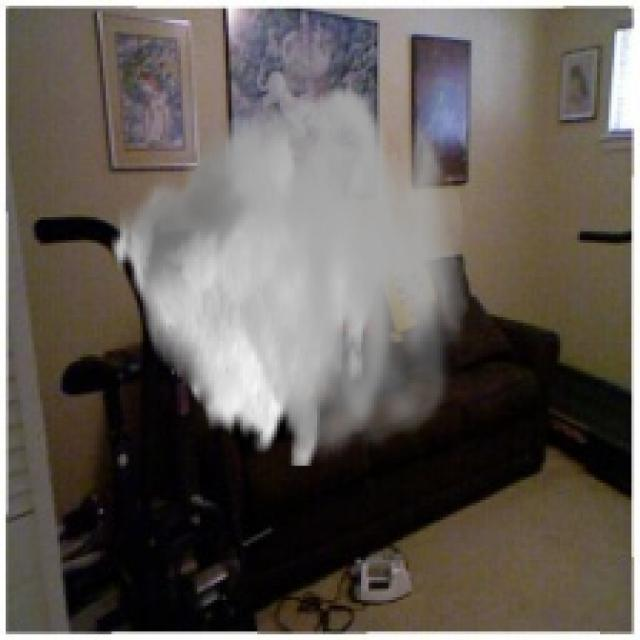smoke: (109, 80, 468, 466)
